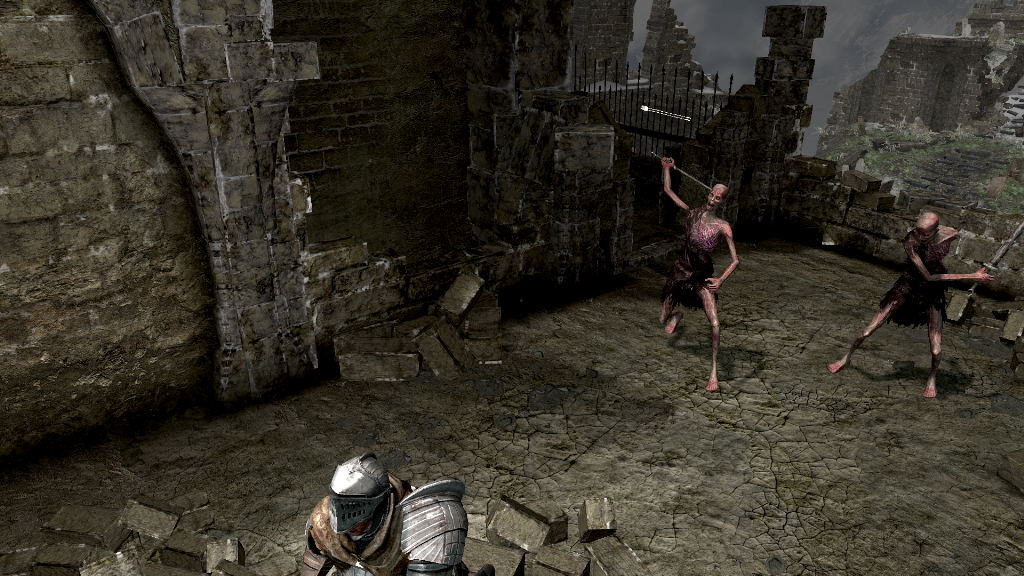hollow: (826, 211, 994, 401), (656, 155, 741, 391)
player: (302, 450, 469, 576)
